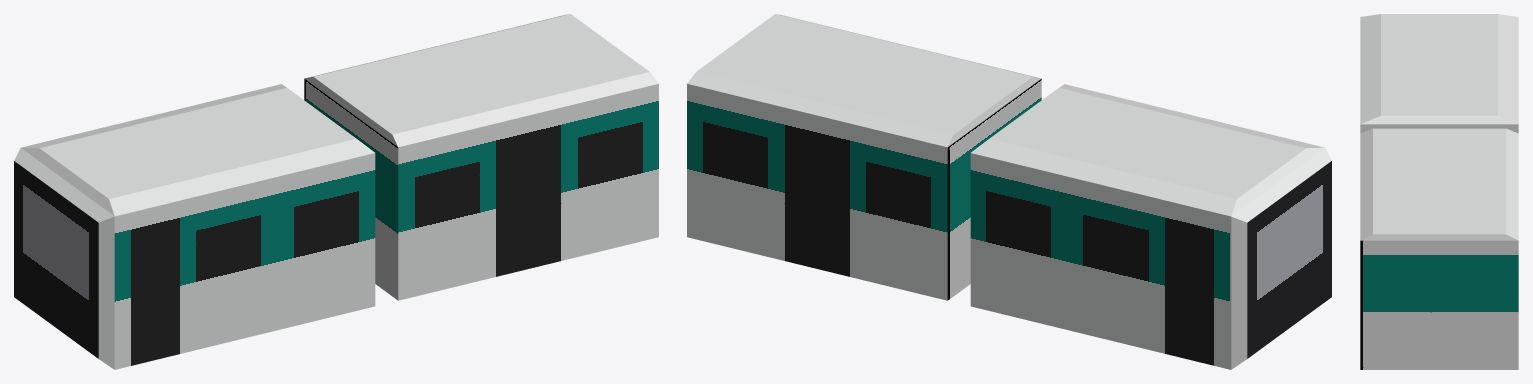
File: little_metro.glb
3 renders of one model, left to right at view 1: azimuth 30°, elevation 25°; view 2: azimuth 150°, elevation 25°; view 3: azimuth 270°, elevation 25°, orthographic. The views are drawn at different scales.
Parts seen in each view (by area): view 1: mesh_metro Texture.png_0, mesh_1_metro Texture.png_0; view 2: mesh_metro Texture.png_0, mesh_1_metro Texture.png_0; view 3: mesh_1_metro Texture.png_0, mesh_metro Texture.png_0.
Part boxes in pixels (box(x1,y1,x2,y2)): mesh_metro Texture.png_0: box(14, 84, 375, 369); mesh_1_metro Texture.png_0: box(304, 14, 658, 300); mesh_metro Texture.png_0: box(970, 84, 1331, 369); mesh_1_metro Texture.png_0: box(687, 14, 1041, 300); mesh_1_metro Texture.png_0: box(1360, 128, 1518, 369); mesh_metro Texture.png_0: box(1360, 14, 1518, 133).
Size of the model in its own units: 2.13 by 0.5875 by 0.625.
1 material, 1 textured.
